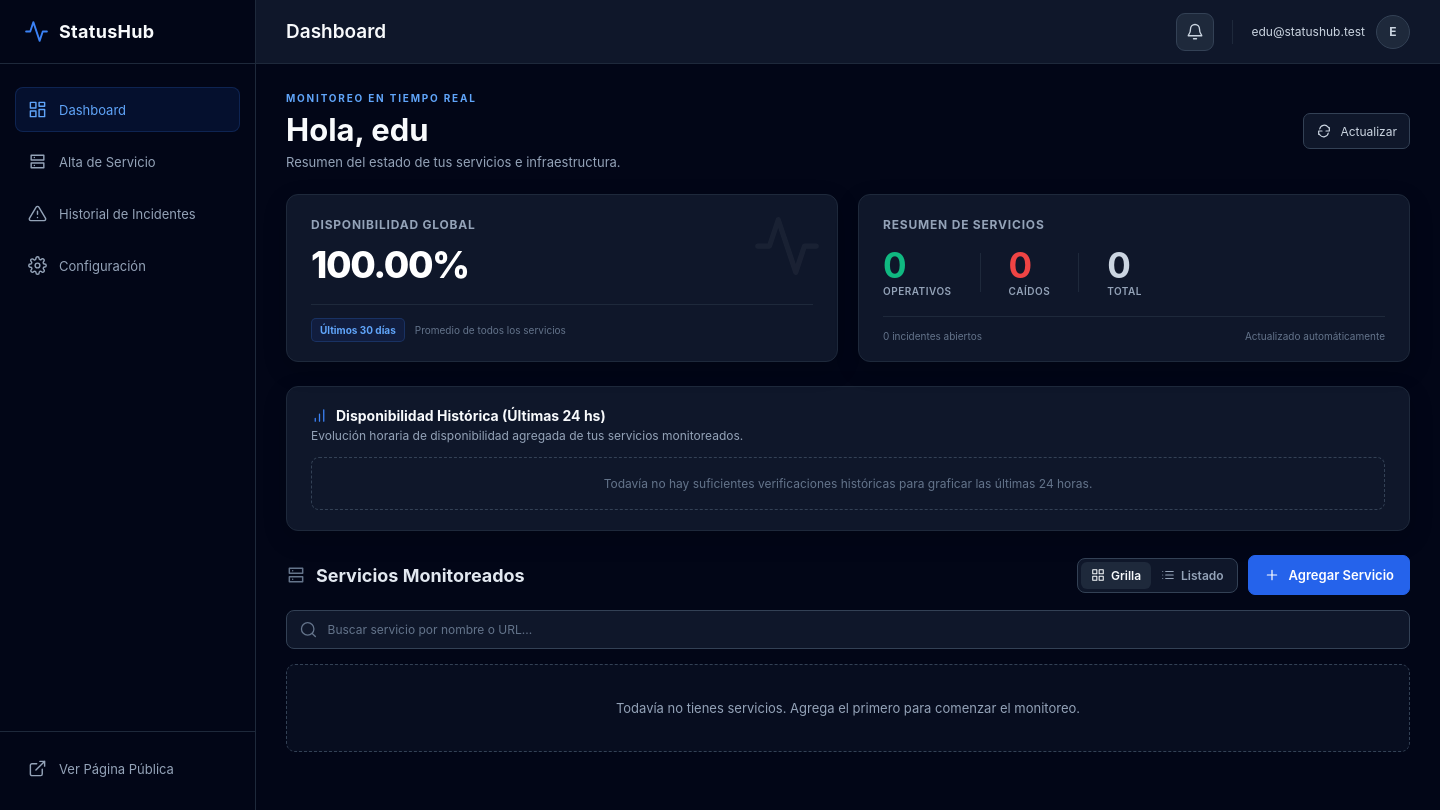
it: Historial de Incidentes — Paginación y modal con fecha/hora de detectado y resuelto › muestra tanto la fecha/hora de detectado como la de resuelto en el modal de incidente
This screenshot has width=1440, height=810.
Step 1. Click the button "Historial de Incidentes" → (128, 214), box [15,191,240,236]
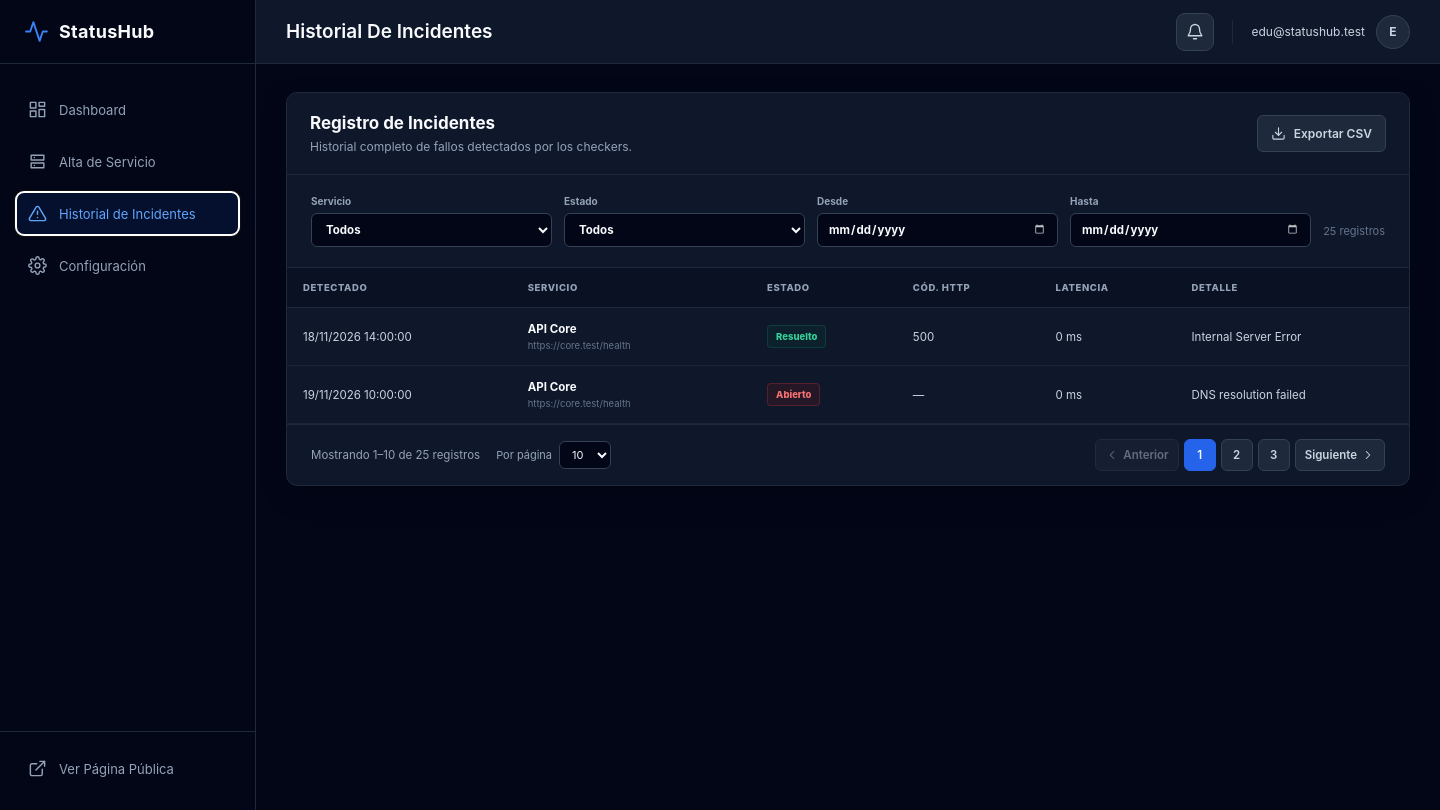
Check: the text "Internal Server Error" is shown
// Incidente resuelto
Step 2. Click the text "Internal Server Error" → (1292, 336), box [1176,308,1409,366]
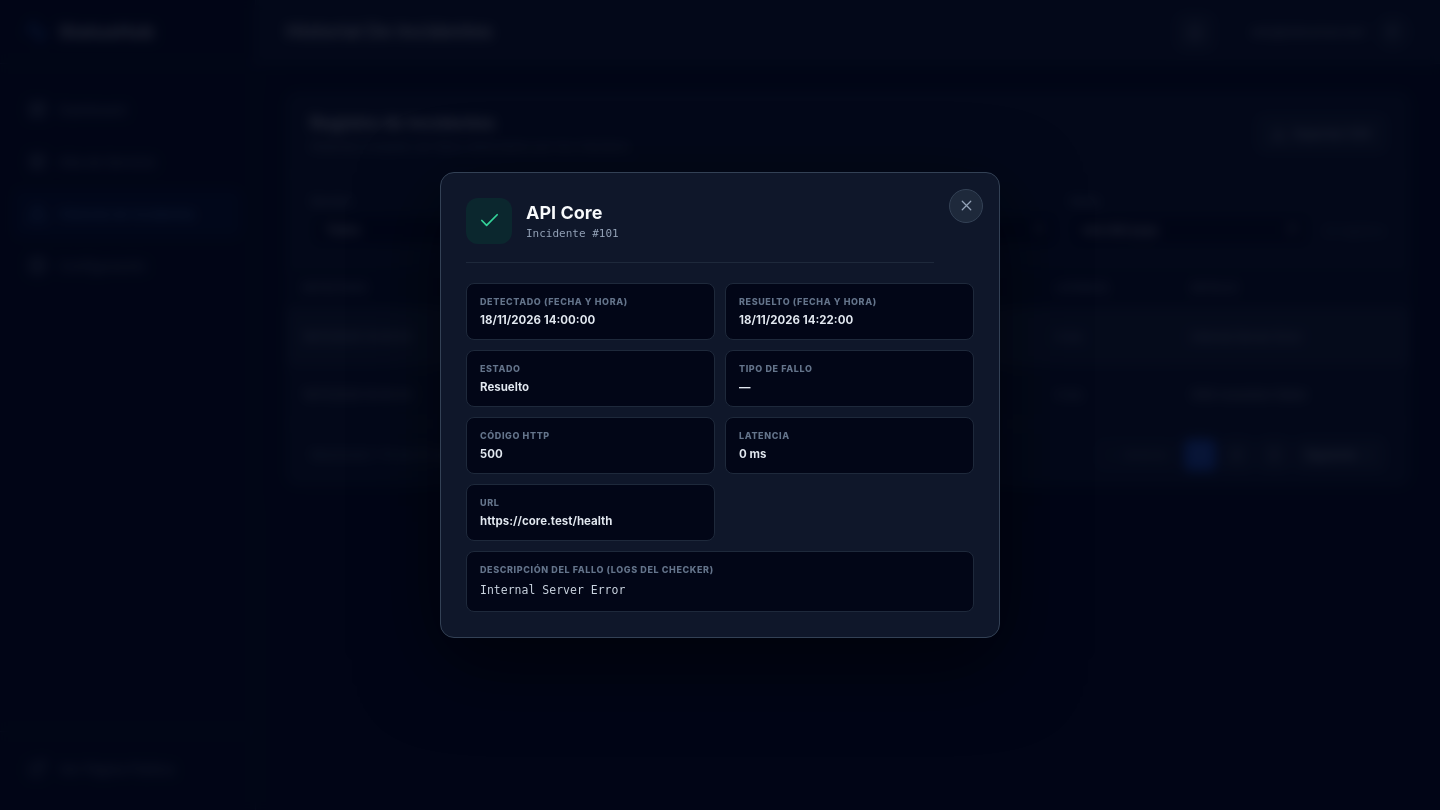
Check: the text "Detectado (Fecha y Hora)" is shown, box [480,296,628,307]
Check: the text "Resuelto (Fecha y Hora)" is shown, box [739,296,877,307]
Check: the text "18/11/2026 14:22:00" is shown, box [739,313,853,327]
Step 3. Click the button named "Cerrar" → (966, 206), box [949,189,983,223]
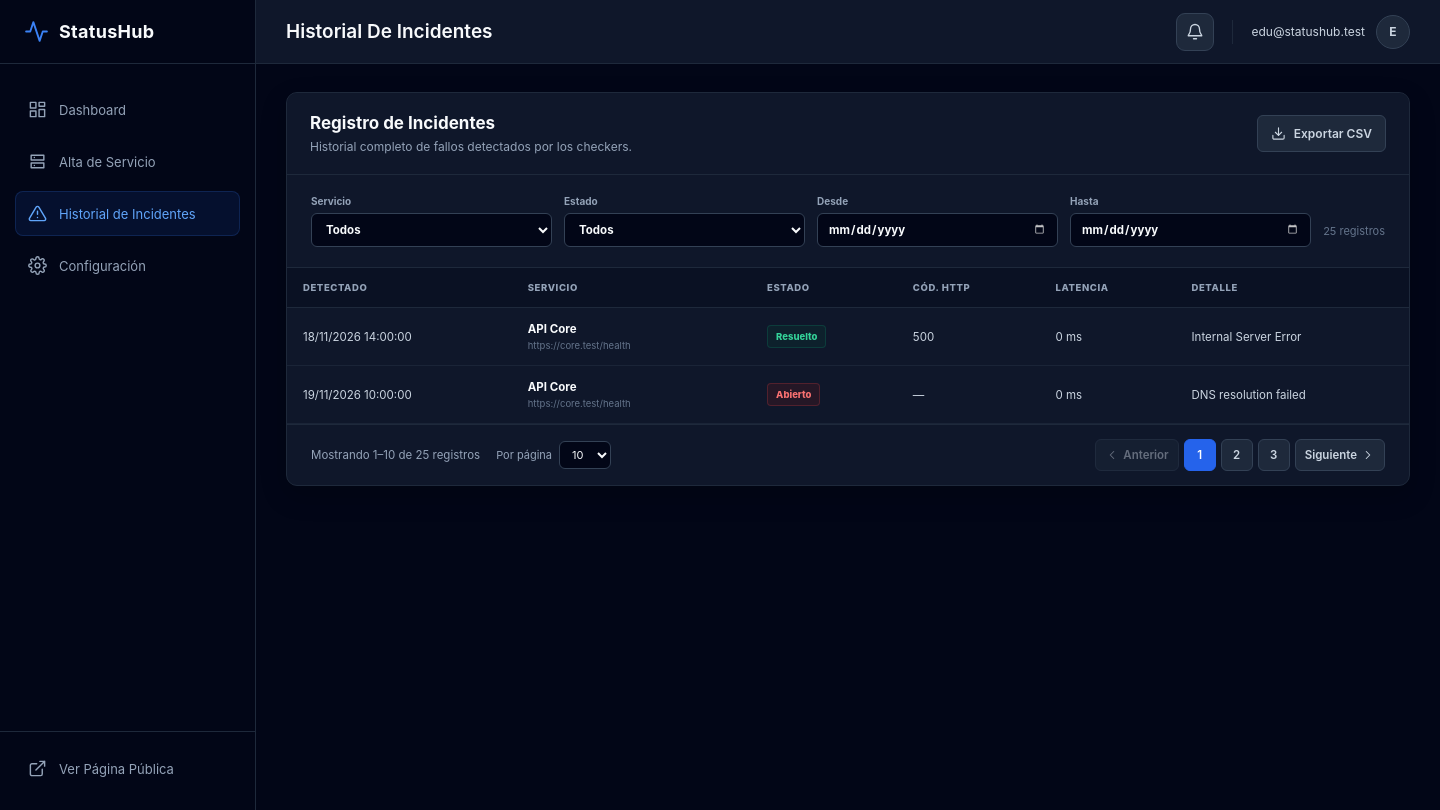
// Incidente abierto
Step 4. Click the text "DNS resolution failed" → (1292, 394), box [1176,366,1409,424]
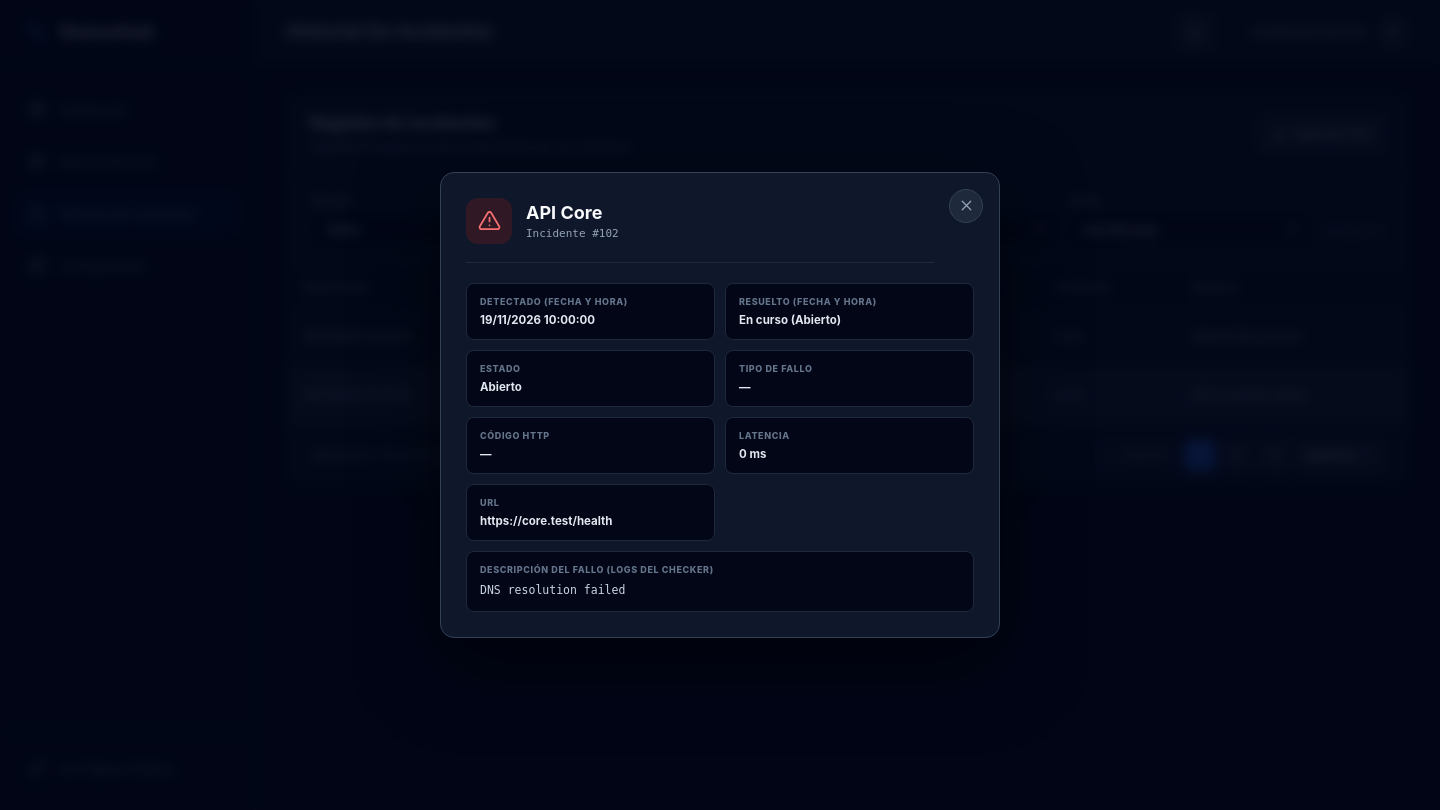
Check: the text "En curso (Abierto)" is shown, box [739,313,841,327]
